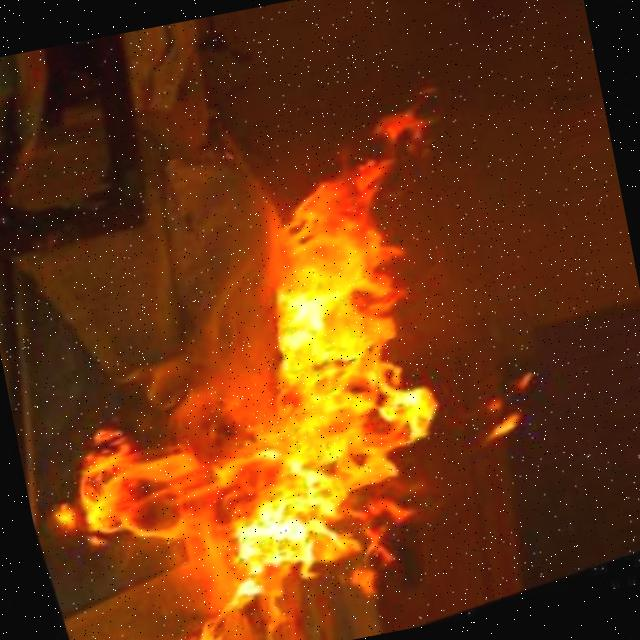fire: (0, 149, 476, 640)
